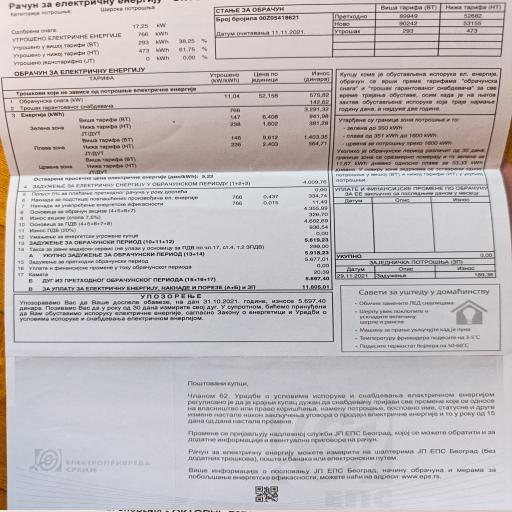racun_za_struju: (0, 62, 335, 193)
